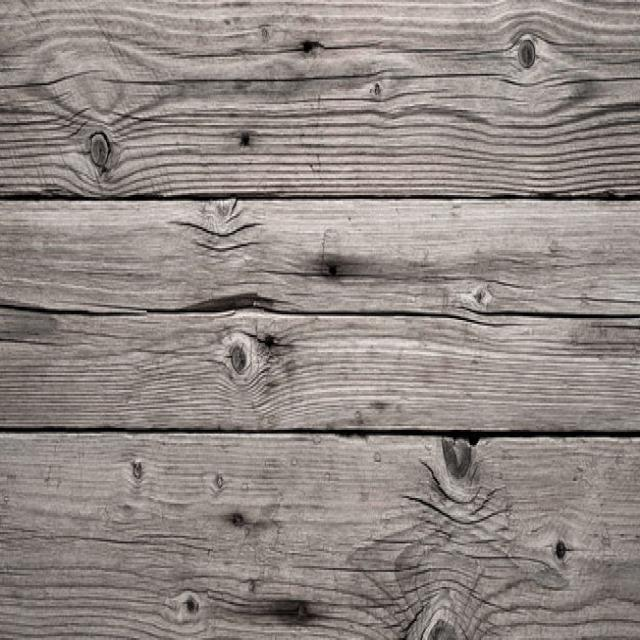have-wooden-eyes: (443, 437, 472, 479), (172, 590, 199, 623), (91, 134, 109, 167), (429, 620, 457, 640), (518, 40, 535, 67), (231, 343, 246, 372), (241, 131, 249, 146), (303, 43, 314, 52), (328, 265, 336, 277)
